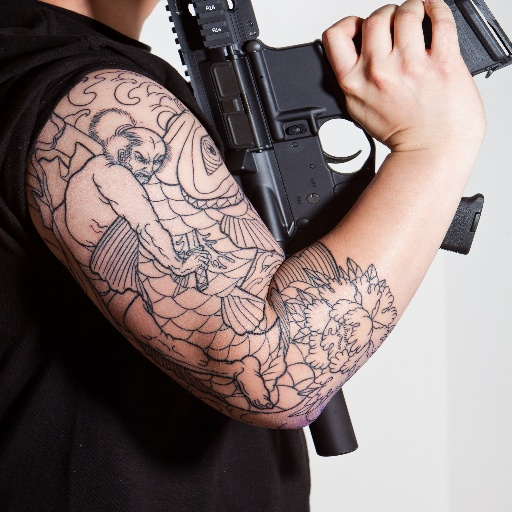hand: (324, 7, 476, 147), (178, 249, 210, 277)
